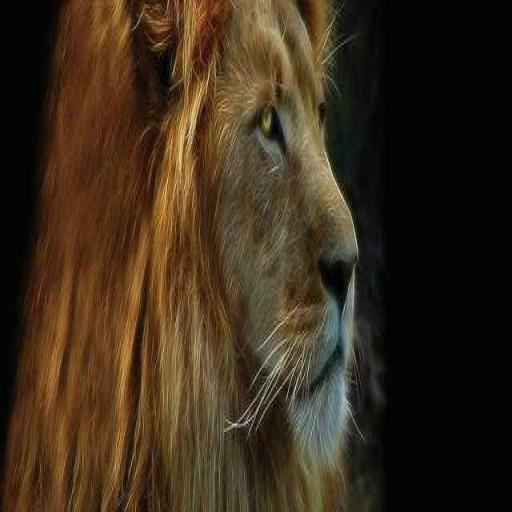Lion: (1, 0, 375, 510)
